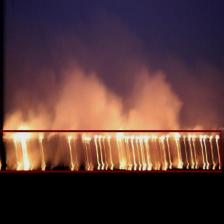fire: (0, 130, 221, 172)
